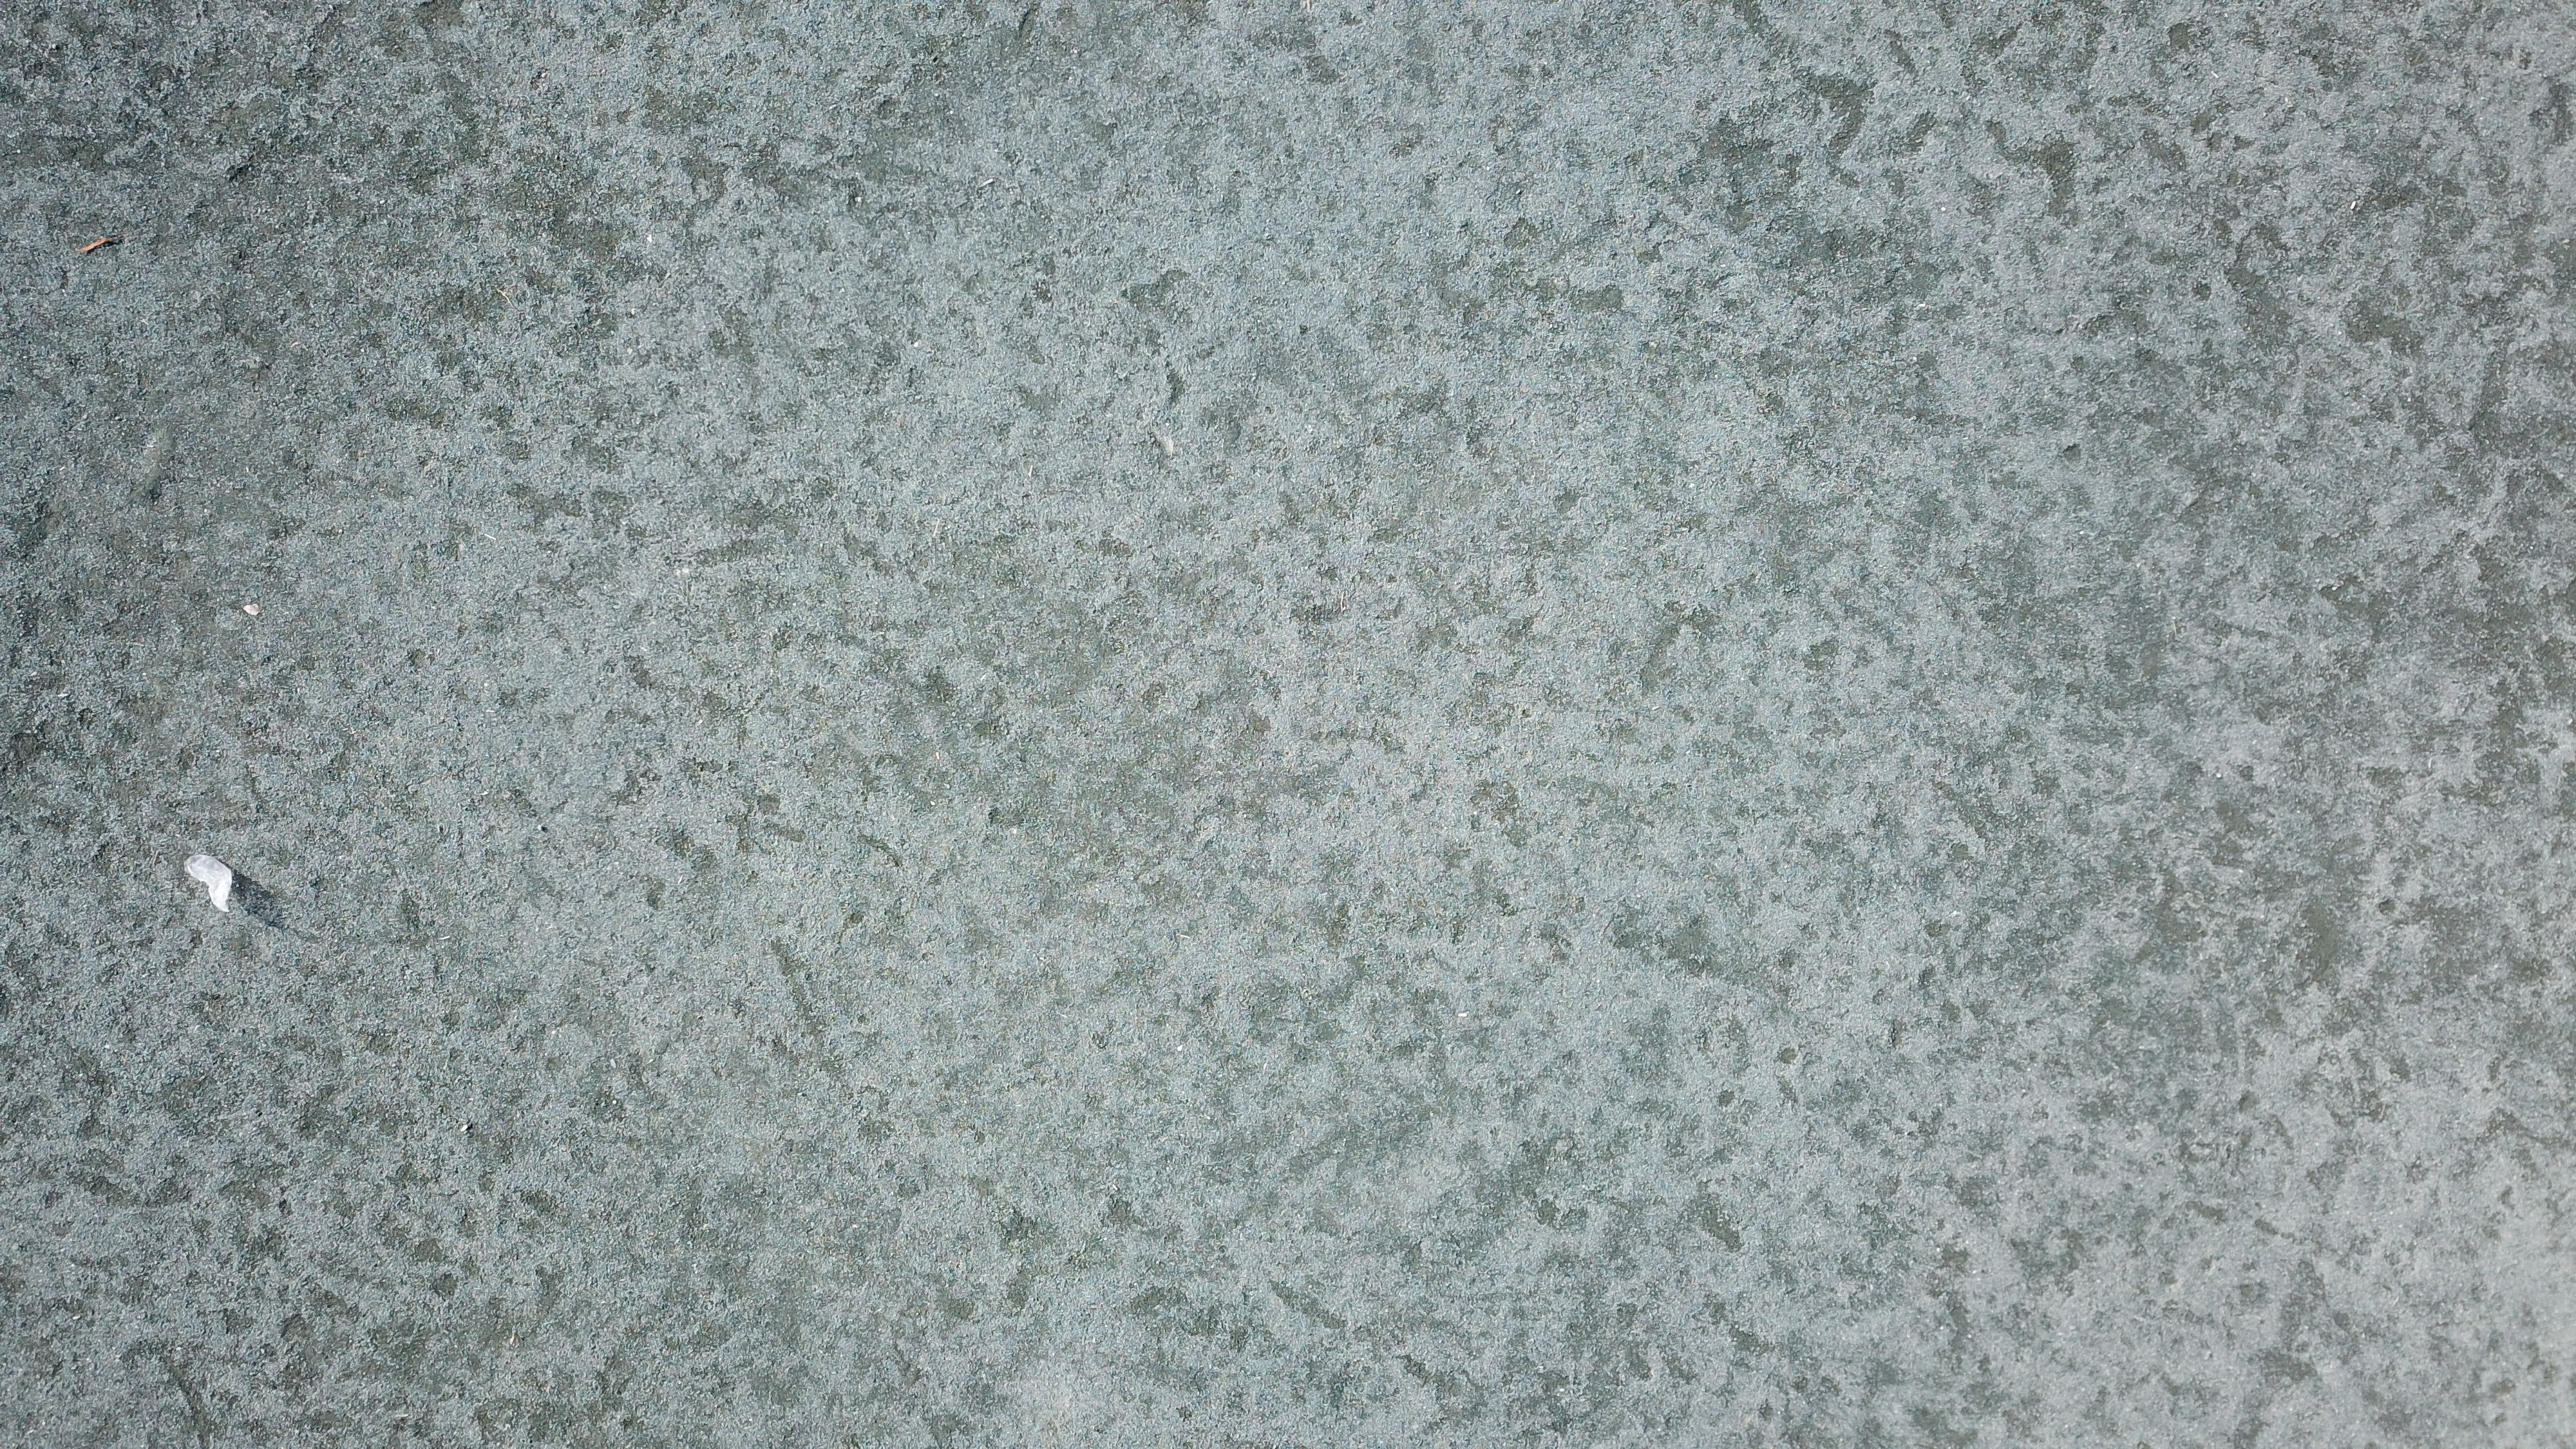Plastic: (182, 853, 249, 911)
